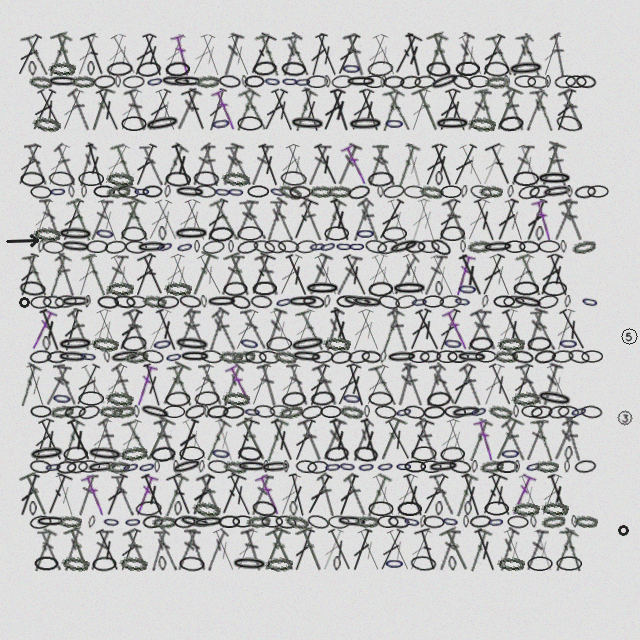chain: (143, 113, 182, 134), (535, 388, 574, 409), (428, 70, 462, 93), (289, 334, 327, 354), (28, 444, 66, 463), (387, 236, 421, 257), (170, 456, 204, 477), (173, 335, 211, 353), (86, 445, 124, 463), (138, 402, 172, 422), (507, 60, 545, 77), (289, 115, 326, 132), (341, 292, 374, 311), (511, 293, 544, 311), (178, 513, 211, 531), (347, 116, 384, 132), (57, 226, 94, 242), (57, 336, 94, 352), (231, 556, 268, 572), (555, 113, 583, 134), (541, 183, 574, 200), (109, 348, 142, 365), (434, 116, 471, 131), (536, 171, 573, 186), (173, 226, 210, 241), (304, 281, 341, 296), (391, 281, 428, 296), (119, 444, 148, 463), (428, 236, 453, 258), (351, 294, 384, 310), (450, 404, 483, 420), (86, 459, 119, 475), (192, 514, 225, 530), (32, 115, 61, 133), (192, 500, 221, 518), (277, 182, 303, 202), (251, 499, 278, 518), (450, 72, 475, 92), (59, 239, 92, 254), (427, 459, 460, 474), (221, 170, 250, 187), (105, 390, 134, 407), (511, 390, 540, 407), (61, 555, 90, 572), (119, 555, 148, 572), (48, 170, 75, 188), (160, 74, 192, 89), (291, 349, 323, 364), (336, 514, 368, 529), (183, 402, 208, 421), (136, 60, 162, 78), (571, 238, 597, 256), (281, 390, 307, 408), (426, 390, 452, 408), (278, 403, 304, 421), (150, 445, 176, 463), (237, 445, 263, 463), (324, 445, 350, 463), (353, 445, 379, 463), (284, 513, 310, 531), (367, 60, 394, 77), (193, 170, 220, 187), (280, 170, 307, 187), (19, 280, 46, 297), (135, 500, 162, 517), (410, 555, 437, 572), (468, 116, 496, 132), (106, 171, 134, 187), (174, 185, 206, 199), (33, 226, 61, 242), (136, 240, 168, 254), (482, 240, 514, 254), (91, 336, 119, 352), (497, 336, 525, 352), (57, 350, 89, 364), (386, 350, 418, 364), (456, 350, 488, 364), (260, 460, 292, 474), (512, 501, 540, 517), (265, 556, 293, 572), (252, 60, 278, 77), (498, 115, 524, 132), (121, 335, 147, 352), (194, 390, 220, 407), (310, 390, 336, 407), (49, 403, 75, 420), (479, 458, 505, 475), (238, 334, 261, 353), (106, 61, 133, 77), (367, 171, 394, 187), (347, 183, 371, 201), (469, 183, 493, 201), (517, 183, 541, 201), (236, 238, 260, 256), (252, 238, 276, 256), (376, 238, 400, 256), (377, 293, 401, 311), (77, 403, 101, 421), (300, 403, 324, 421), (306, 513, 330, 531), (111, 403, 136, 420), (541, 513, 566, 530), (48, 61, 76, 76), (106, 281, 134, 296), (164, 281, 192, 296), (323, 336, 351, 351), (222, 391, 250, 406), (541, 501, 569, 516), (497, 556, 525, 571), (47, 75, 79, 88), (172, 75, 204, 88), (345, 75, 377, 88), (165, 171, 191, 187), (121, 226, 147, 242), (208, 226, 234, 242), (60, 295, 92, 308), (206, 295, 238, 308), (287, 295, 319, 308), (266, 336, 292, 352), (179, 350, 211, 363), (165, 391, 191, 407), (236, 460, 268, 473), (35, 515, 67, 528), (179, 556, 205, 572), (229, 293, 252, 311), (151, 335, 174, 353), (382, 183, 406, 200), (528, 183, 552, 200), (263, 238, 287, 255), (364, 238, 388, 255), (178, 293, 202, 310), (394, 293, 418, 310), (536, 293, 560, 310), (141, 348, 165, 365), (347, 348, 371, 365), (533, 348, 557, 365), (567, 348, 591, 365), (448, 458, 472, 475), (165, 61, 190, 77), (281, 61, 306, 77), (426, 61, 451, 77), (484, 61, 509, 77), (20, 171, 45, 187), (419, 184, 444, 200), (382, 226, 407, 242), (223, 281, 248, 297), (368, 281, 393, 297), (469, 336, 494, 352), (527, 336, 552, 352), (124, 349, 149, 365), (231, 349, 256, 365), (273, 349, 298, 365), (368, 391, 393, 407), (339, 404, 364, 420), (488, 404, 513, 420), (63, 446, 88, 462), (440, 446, 465, 462), (92, 556, 117, 572), (121, 116, 147, 131), (237, 116, 263, 131), (78, 171, 104, 186), (513, 171, 539, 186), (237, 226, 263, 241), (513, 281, 539, 296), (78, 391, 104, 406), (179, 446, 205, 461), (411, 446, 437, 461), (368, 501, 394, 516), (527, 556, 553, 571), (556, 556, 582, 571), (547, 404, 571, 420), (274, 514, 298, 530), (455, 61, 480, 76), (195, 74, 220, 89), (106, 184, 131, 199), (324, 226, 349, 241), (440, 226, 465, 241), (467, 239, 492, 254), (252, 281, 277, 296), (542, 281, 567, 296), (142, 294, 167, 309), (397, 501, 422, 516), (484, 501, 509, 516), (246, 514, 271, 529), (34, 556, 59, 571), (210, 115, 232, 132), (94, 225, 116, 242), (442, 335, 464, 352), (51, 390, 73, 407), (341, 390, 363, 407), (210, 445, 232, 462), (399, 74, 422, 90), (117, 184, 140, 200), (574, 184, 597, 200), (104, 239, 127, 255), (202, 239, 225, 255), (302, 294, 325, 310), (258, 349, 281, 365), (311, 349, 334, 365), (330, 349, 353, 365), (511, 349, 534, 365), (64, 404, 87, 420), (374, 404, 397, 420), (403, 404, 426, 420), (530, 404, 553, 420), (66, 459, 89, 475), (29, 514, 52, 530), (387, 514, 410, 530), (223, 460, 248, 474), (93, 74, 116, 89), (218, 74, 241, 89), (331, 74, 354, 89), (554, 74, 577, 89), (194, 184, 217, 199), (277, 239, 300, 254), (295, 239, 318, 254), (417, 239, 440, 254), (54, 294, 77, 309), (113, 294, 136, 309), (250, 294, 273, 309), (439, 294, 462, 309), (29, 349, 52, 364), (200, 349, 223, 364), (419, 349, 442, 364), (551, 349, 574, 364), (206, 404, 229, 419), (253, 404, 276, 419), (269, 404, 292, 419), (29, 459, 52, 474), (207, 459, 230, 474), (295, 459, 318, 474), (574, 459, 597, 474), (469, 514, 492, 529), (155, 238, 175, 255), (318, 238, 338, 255), (469, 403, 489, 420), (569, 403, 589, 420), (524, 458, 544, 475), (29, 75, 53, 89), (485, 75, 509, 89), (457, 281, 478, 297), (219, 350, 243, 364), (106, 460, 130, 474), (152, 515, 176, 529), (575, 74, 597, 89), (142, 514, 164, 529), (122, 75, 145, 89), (403, 185, 426, 199), (42, 240, 65, 254), (518, 240, 541, 254), (42, 295, 65, 309), (46, 350, 69, 364), (222, 405, 245, 419), (557, 405, 580, 419), (580, 405, 603, 419), (268, 184, 288, 200), (175, 239, 195, 255), (274, 294, 294, 310), (580, 294, 600, 310), (164, 349, 184, 365), (394, 404, 414, 420), (121, 459, 141, 475), (137, 459, 157, 475), (402, 514, 422, 530), (341, 61, 362, 76), (384, 116, 405, 131), (355, 226, 376, 241), (558, 336, 579, 351), (500, 446, 521, 461), (384, 556, 405, 571), (71, 75, 95, 88), (309, 185, 333, 198), (327, 185, 351, 198), (479, 185, 503, 198), (494, 350, 518, 363), (99, 405, 123, 418), (535, 460, 559, 473), (58, 515, 82, 528), (355, 515, 379, 528), (574, 515, 598, 528), (383, 75, 405, 89), (414, 75, 436, 89), (527, 75, 549, 89), (30, 185, 52, 199), (289, 185, 311, 199), (125, 240, 147, 254), (30, 295, 52, 309), (97, 295, 119, 309), (126, 295, 148, 309), (157, 295, 179, 309), (503, 295, 525, 309), (245, 350, 267, 364), (423, 405, 445, 419), (444, 405, 466, 419), (307, 460, 329, 474), (174, 515, 196, 529), (328, 515, 350, 529), (423, 515, 445, 529), (507, 515, 529, 529), (145, 74, 165, 89), (405, 240, 426, 254), (361, 350, 382, 364), (56, 460, 77, 474), (306, 75, 328, 88), (363, 75, 385, 88), (468, 75, 490, 88), (514, 75, 536, 88), (565, 75, 587, 88), (93, 185, 115, 198), (247, 185, 269, 198), (440, 185, 462, 198), (587, 185, 609, 198), (86, 240, 108, 253), (504, 240, 526, 253), (538, 240, 560, 253), (422, 295, 444, 308), (493, 295, 515, 308), (408, 350, 430, 363), (436, 350, 458, 363), (447, 350, 469, 363), (475, 350, 497, 363), (581, 350, 603, 363), (30, 405, 52, 418), (163, 405, 185, 418), (320, 405, 342, 418), (521, 405, 543, 418), (78, 460, 100, 473), (404, 460, 426, 473), (420, 460, 442, 473), (496, 460, 518, 473), (218, 515, 240, 528), (232, 515, 254, 528), (261, 515, 283, 528), (377, 515, 399, 528), (263, 74, 282, 89), (308, 239, 327, 254), (453, 294, 472, 309), (79, 349, 98, 364), (338, 459, 357, 474), (376, 459, 395, 474), (441, 514, 460, 529), (244, 75, 265, 88), (142, 185, 163, 198), (336, 295, 357, 308), (213, 185, 232, 199), (410, 295, 429, 309), (243, 405, 262, 419), (44, 460, 63, 474), (357, 460, 376, 474), (102, 515, 121, 529), (294, 75, 312, 89), (227, 185, 245, 199), (324, 460, 342, 474), (124, 515, 142, 529), (487, 515, 505, 529), (281, 75, 299, 88), (49, 185, 67, 198), (133, 185, 151, 198), (335, 240, 353, 253), (348, 240, 366, 253), (395, 460, 413, 473), (28, 61, 37, 76), (158, 226, 167, 241), (535, 226, 544, 241), (42, 336, 51, 351), (564, 446, 573, 461), (289, 501, 298, 516), (158, 556, 167, 571), (448, 556, 457, 571), (87, 515, 96, 529), (87, 61, 95, 76), (435, 171, 443, 186), (435, 281, 443, 296), (29, 501, 37, 516), (174, 501, 182, 516), (435, 501, 443, 516), (464, 501, 472, 516), (333, 556, 341, 571), (379, 350, 387, 364), (241, 75, 249, 88), (503, 75, 511, 88), (460, 185, 468, 198), (37, 240, 45, 253), (200, 295, 208, 308), (323, 295, 331, 308), (481, 295, 489, 308), (103, 350, 111, 363), (419, 515, 427, 528), (324, 75, 331, 88), (380, 75, 387, 88), (68, 185, 75, 198), (164, 185, 171, 198), (377, 185, 384, 198), (507, 185, 514, 198), (566, 185, 573, 198), (560, 240, 567, 253), (84, 295, 91, 308), (564, 295, 571, 308), (133, 405, 140, 418), (203, 405, 210, 418), (198, 460, 205, 473), (471, 460, 478, 473), (530, 515, 537, 528), (571, 515, 578, 528), (115, 75, 121, 88), (545, 75, 551, 88), (81, 185, 87, 198), (194, 240, 200, 253), (228, 240, 234, 253), (460, 240, 466, 253), (364, 405, 370, 418), (513, 405, 519, 418), (154, 460, 160, 473), (173, 460, 179, 473), (263, 460, 269, 473), (283, 460, 289, 473), (514, 460, 520, 473), (564, 460, 570, 473), (463, 515, 469, 528)
double: (388, 31, 424, 78), (156, 361, 192, 408), (236, 416, 272, 463), (489, 416, 525, 463), (265, 526, 301, 573), (439, 526, 475, 573), (141, 416, 176, 463), (19, 471, 54, 518), (244, 31, 278, 78), (411, 86, 445, 133), (490, 86, 524, 133), (113, 196, 147, 243), (136, 251, 170, 298), (223, 251, 257, 298), (374, 416, 408, 463), (295, 526, 329, 573), (208, 197, 242, 243), (121, 417, 155, 463), (426, 31, 459, 78), (484, 141, 517, 188), (287, 196, 320, 243), (186, 251, 219, 298), (403, 416, 436, 463), (41, 471, 74, 518), (165, 471, 198, 518), (215, 471, 248, 518), (476, 471, 509, 518), (63, 526, 96, 573), (258, 526, 291, 573), (107, 32, 141, 77), (99, 142, 133, 187), (556, 307, 590, 352), (12, 32, 45, 78), (20, 32, 53, 78), (455, 32, 488, 78), (237, 87, 270, 133), (382, 87, 415, 133), (157, 142, 190, 188), (107, 252, 140, 298), (368, 252, 401, 298), (295, 307, 328, 353), (469, 307, 502, 353), (368, 362, 401, 408), (200, 417, 233, 463), (360, 472, 393, 518), (79, 31, 111, 78), (180, 86, 212, 133), (535, 141, 567, 188), (245, 251, 277, 298), (34, 87, 67, 132), (374, 197, 407, 242), (194, 252, 227, 297), (78, 362, 111, 407), (179, 417, 212, 462), (382, 417, 415, 462), (418, 472, 451, 517), (187, 32, 219, 78), (282, 32, 314, 78), (369, 32, 401, 78), (485, 32, 517, 78), (27, 87, 59, 133), (230, 87, 262, 133), (259, 87, 291, 133), (557, 87, 589, 133), (448, 142, 480, 188), (456, 142, 488, 188), (143, 197, 175, 243), (151, 197, 183, 243), (274, 252, 306, 298), (311, 252, 343, 298), (340, 252, 372, 298), (427, 252, 459, 298), (114, 307, 146, 353), (143, 307, 175, 353), (230, 307, 262, 353), (412, 307, 444, 353), (71, 362, 103, 408), (311, 362, 343, 408), (332, 362, 364, 408), (35, 417, 67, 463), (462, 417, 494, 463), (158, 472, 190, 518), (195, 472, 227, 518), (224, 472, 256, 518), (375, 527, 407, 573), (383, 527, 415, 573), (50, 31, 81, 78), (85, 86, 116, 133), (230, 416, 261, 463), (224, 362, 256, 407), (303, 472, 335, 517), (42, 32, 73, 78), (129, 32, 160, 78), (477, 32, 508, 78), (93, 87, 124, 133), (143, 87, 174, 133), (172, 87, 203, 133), (346, 87, 377, 133), (282, 142, 313, 188), (122, 197, 153, 243), (172, 197, 203, 243), (433, 197, 464, 243), (441, 197, 472, 243), (462, 197, 493, 243), (21, 252, 52, 298), (456, 252, 487, 298), (477, 252, 508, 298), (514, 252, 545, 298), (535, 252, 566, 298), (93, 307, 124, 353), (122, 307, 153, 353), (267, 307, 298, 353), (499, 307, 530, 353), (100, 362, 131, 408), (166, 362, 197, 408), (361, 362, 392, 408), (448, 362, 479, 408), (543, 362, 574, 408), (64, 417, 95, 463), (259, 417, 290, 463), (549, 417, 580, 463), (187, 472, 218, 518), (369, 472, 400, 518), (485, 472, 516, 518), (27, 527, 58, 573), (93, 527, 124, 573), (122, 527, 153, 573), (209, 527, 240, 573), (354, 527, 385, 573), (404, 527, 435, 573), (549, 527, 580, 573), (413, 526, 443, 573), (13, 142, 44, 187), (311, 142, 342, 187), (340, 142, 371, 187), (27, 307, 58, 352), (441, 307, 472, 352), (325, 527, 356, 572), (159, 32, 189, 78), (225, 32, 255, 78), (312, 32, 342, 78), (515, 32, 545, 78), (57, 87, 87, 133), (115, 87, 145, 133), (268, 87, 298, 133), (289, 87, 319, 133), (318, 87, 348, 133), (376, 87, 406, 133), (43, 142, 73, 188), (130, 142, 160, 188), (333, 142, 363, 188), (391, 142, 421, 188), (420, 142, 450, 188), (57, 197, 87, 243), (65, 197, 95, 243), (181, 197, 211, 243), (318, 197, 348, 243), (492, 197, 522, 243), (521, 197, 551, 243), (558, 197, 588, 243), (43, 252, 73, 298), (80, 252, 110, 298), (167, 252, 197, 298), (254, 252, 284, 298), (304, 252, 334, 298), (486, 252, 516, 298), (507, 252, 537, 298), (347, 307, 377, 353), (355, 307, 385, 353), (376, 307, 406, 353), (434, 307, 464, 353), (478, 362, 508, 408), (115, 417, 145, 463), (268, 417, 298, 463), (289, 417, 319, 463), (297, 417, 327, 463), (318, 417, 348, 463), (101, 472, 131, 518), (138, 472, 168, 518), (391, 472, 421, 518), (449, 472, 479, 518), (515, 472, 545, 518), (231, 527, 261, 573), (463, 527, 493, 573), (500, 527, 530, 573), (333, 32, 363, 77), (210, 87, 240, 132), (478, 142, 508, 187), (399, 252, 429, 297), (486, 362, 516, 407), (254, 472, 284, 517), (507, 472, 537, 517), (72, 32, 101, 78), (254, 32, 283, 78), (362, 32, 391, 78), (420, 32, 449, 78), (123, 87, 152, 133), (152, 87, 181, 133), (434, 87, 463, 133), (442, 87, 471, 133), (529, 87, 558, 133), (109, 142, 138, 188), (428, 142, 457, 188), (515, 142, 544, 188), (28, 197, 57, 243), (94, 197, 123, 243), (202, 197, 231, 243), (384, 197, 413, 243), (471, 197, 500, 243), (130, 252, 159, 298), (283, 252, 312, 298), (362, 252, 391, 298), (544, 252, 573, 298), (36, 307, 65, 353), (14, 362, 43, 408), (246, 362, 275, 408), (304, 362, 333, 408), (57, 417, 86, 463), (173, 417, 202, 463), (326, 417, 355, 463), (80, 472, 109, 518), (275, 472, 304, 518), (536, 472, 565, 518), (544, 472, 573, 518), (115, 527, 144, 573), (289, 527, 318, 573), (318, 527, 347, 573), (471, 527, 500, 573), (390, 253, 421, 296), (333, 253, 363, 297), (210, 308, 240, 352), (405, 307, 434, 352), (515, 362, 544, 407), (239, 198, 269, 241), (139, 32, 167, 78), (197, 32, 225, 78), (342, 32, 370, 78), (356, 87, 384, 133), (406, 87, 434, 133), (551, 87, 579, 133), (168, 142, 196, 188), (255, 142, 283, 188), (501, 197, 529, 243), (160, 252, 188, 298), (153, 307, 181, 353), (290, 307, 318, 353), (327, 307, 355, 353), (493, 307, 521, 353), (189, 362, 217, 408), (276, 362, 304, 408), (508, 362, 536, 408), (29, 417, 57, 463), (87, 417, 115, 463), (153, 417, 181, 463), (435, 417, 463, 463), (443, 417, 471, 463), (530, 417, 558, 463), (15, 472, 43, 518), (131, 472, 159, 518), (334, 472, 362, 518), (400, 472, 428, 518), (225, 143, 254, 187), (43, 363, 72, 407), (500, 418, 529, 462), (66, 87, 94, 132), (464, 87, 492, 132), (52, 142, 80, 187), (298, 197, 326, 242), (66, 307, 94, 352), (182, 307, 210, 352), (240, 307, 268, 352), (464, 307, 492, 352), (429, 362, 457, 407), (342, 472, 370, 517), (102, 32, 129, 78), (327, 87, 354, 133), (218, 142, 245, 188), (276, 142, 303, 188), (327, 197, 354, 243), (414, 197, 441, 243), (15, 252, 42, 298), (73, 252, 100, 298), (261, 307, 288, 353), (522, 307, 549, 353), (551, 307, 578, 353), (23, 362, 50, 408), (52, 472, 79, 518), (458, 472, 485, 518), (240, 527, 267, 573), (348, 527, 375, 573), (559, 527, 586, 573), (530, 308, 558, 352), (501, 87, 528, 132), (189, 142, 216, 187), (305, 142, 332, 187), (508, 142, 535, 187), (87, 197, 114, 242), (232, 197, 259, 242), (261, 197, 288, 242), (356, 197, 383, 242), (551, 197, 578, 242), (102, 252, 129, 297), (218, 252, 245, 297), (421, 252, 448, 297), (203, 307, 230, 352), (110, 362, 137, 407), (400, 362, 427, 407), (458, 362, 485, 407), (414, 417, 441, 462), (429, 472, 456, 517), (87, 527, 114, 572), (174, 527, 201, 572), (219, 32, 245, 78), (538, 32, 564, 78), (204, 87, 230, 133), (473, 87, 499, 133), (82, 142, 108, 188), (407, 197, 433, 243), (59, 307, 85, 353), (88, 307, 114, 353), (132, 362, 158, 408), (140, 362, 166, 408), (256, 362, 282, 408), (343, 362, 369, 408), (538, 362, 564, 408), (212, 417, 238, 463), (357, 417, 383, 463), (531, 527, 557, 573), (508, 33, 535, 77), (522, 88, 549, 132), (139, 143, 166, 187), (37, 528, 64, 572), (203, 528, 230, 572), (277, 32, 303, 77), (248, 142, 274, 187), (372, 142, 398, 187), (53, 252, 79, 297), (175, 307, 201, 352), (386, 307, 412, 352), (198, 362, 224, 407), (523, 417, 549, 462), (248, 472, 274, 517), (494, 527, 520, 572), (523, 527, 549, 572), (306, 32, 331, 78), (299, 87, 324, 133), (531, 197, 556, 243), (451, 252, 476, 298), (393, 362, 418, 408), (473, 417, 498, 463), (285, 472, 310, 518), (270, 198, 296, 242), (349, 198, 375, 242), (219, 363, 245, 407), (349, 418, 375, 462), (111, 473, 137, 517), (154, 528, 180, 572), (24, 142, 49, 187), (320, 307, 345, 352), (53, 362, 78, 407), (422, 362, 447, 407), (436, 527, 461, 572), (170, 32, 194, 78), (402, 32, 426, 78), (402, 142, 426, 188), (199, 142, 223, 187), (365, 142, 389, 187), (547, 142, 571, 187), (39, 197, 63, 242), (286, 362, 310, 407), (97, 417, 121, 462), (561, 417, 585, 462), (75, 472, 99, 517), (315, 472, 339, 517), (60, 527, 84, 572), (147, 527, 171, 572), (184, 527, 208, 572), (75, 142, 98, 187), (453, 32, 475, 77), (549, 32, 569, 77)
noise: (5, 233, 41, 248), (615, 408, 635, 428), (619, 326, 639, 346), (17, 295, 31, 309), (616, 523, 630, 537)
